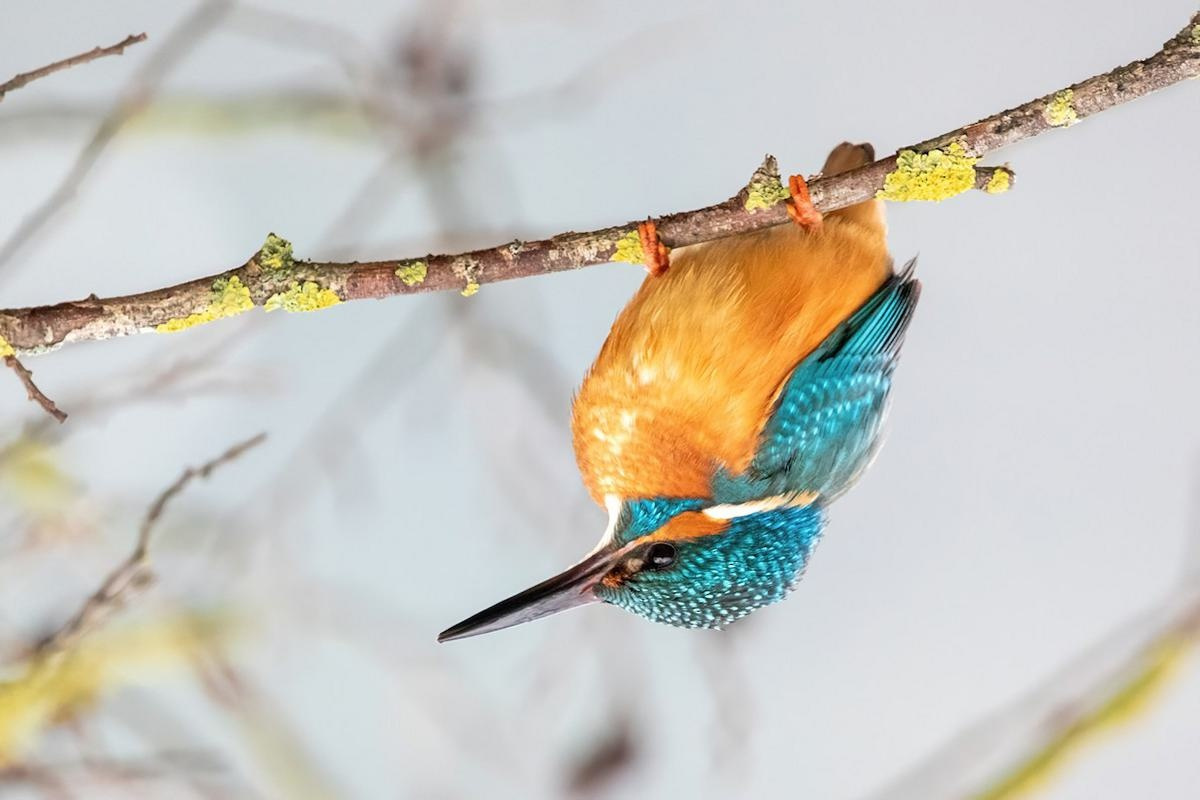kingfisher: (424, 181, 916, 659)
